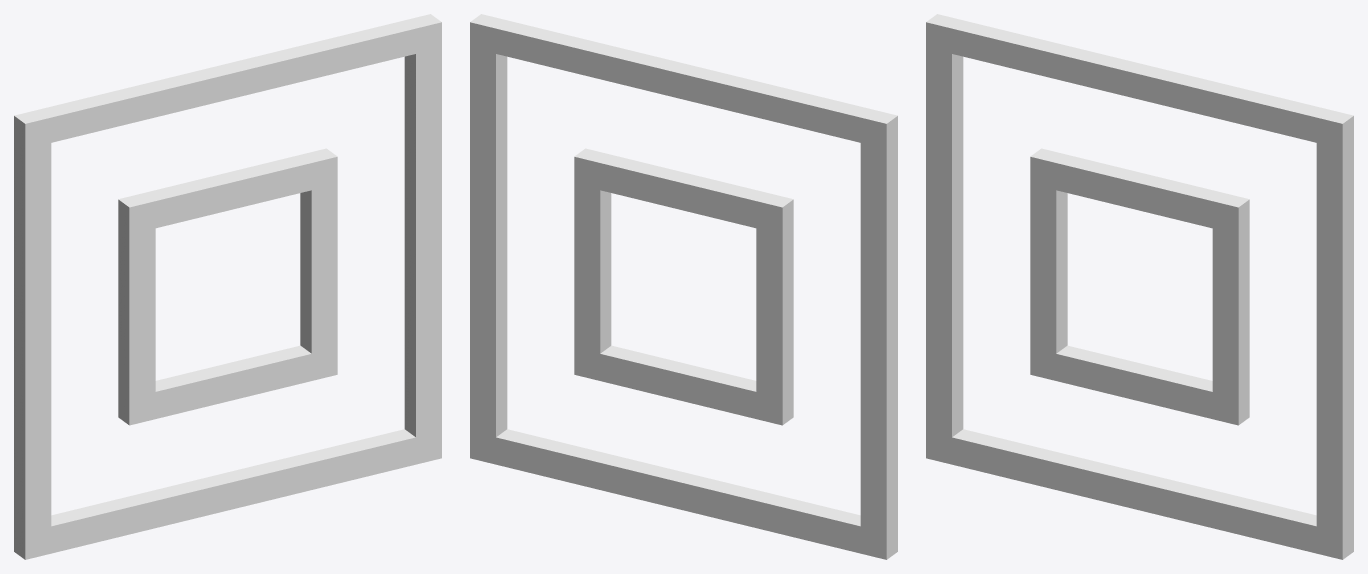
Rendered from Reticle.obj.
3 views of the same model, side by side, from view 1: azimuth 30°, elevation 25°; view 2: azimuth 150°, elevation 25°; view 3: azimuth 330°, elevation 25° (orthographic).
Parts seen in each view (by area): view 1: Cube; view 2: Cube; view 3: Cube.
Part boxes in pixels (x1,y1,x2,y2): Cube: (14,14,441,559); Cube: (470,14,897,559); Cube: (926,14,1353,559).
Size of the model in its own units: 2 by 2 by 0.0937.
Materials: 1 (1 with a texture image).
